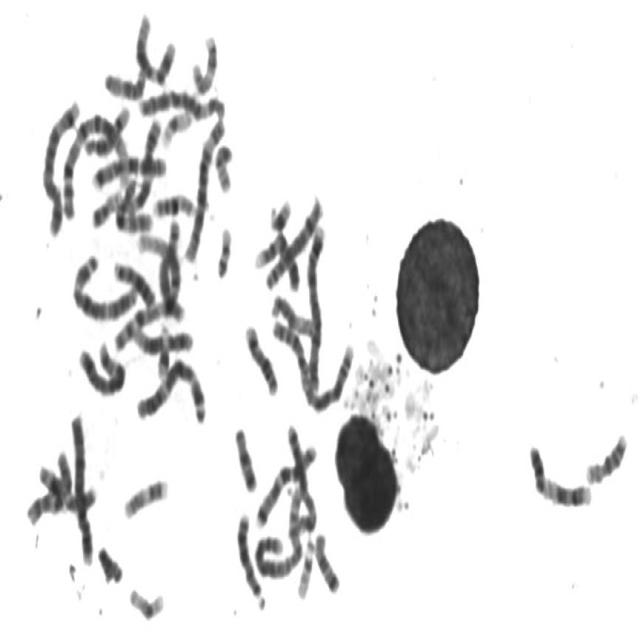A1: (58, 98, 134, 220), (134, 223, 186, 325)
A2: (269, 310, 356, 414), (251, 477, 307, 582)
A3: (132, 352, 209, 426), (69, 246, 139, 324)
B4: (66, 406, 95, 568), (303, 215, 328, 395)
B5: (38, 91, 83, 237), (74, 333, 127, 399)
C10: (23, 441, 73, 528), (112, 173, 154, 244)
C11: (118, 108, 165, 218), (35, 458, 99, 515)
C12: (132, 2, 178, 88), (127, 319, 196, 355)
C6: (182, 107, 228, 264), (135, 80, 228, 124)
C7: (253, 436, 319, 532), (88, 147, 170, 192)
C8: (261, 188, 326, 292), (284, 415, 319, 537)
C9: (525, 436, 595, 510), (253, 225, 302, 293)
D13: (233, 504, 268, 613), (110, 252, 158, 313)
D14: (241, 316, 280, 398), (82, 98, 132, 160)
D15: (268, 288, 319, 340), (101, 60, 148, 101)
E16: (582, 424, 630, 486), (150, 185, 198, 221)
E17: (120, 469, 171, 522), (188, 26, 220, 97)
E18: (311, 525, 342, 596), (231, 418, 259, 495)
F19: (125, 578, 167, 624), (158, 99, 194, 149)
F20: (88, 181, 125, 230), (211, 136, 235, 193)
G21: (266, 190, 293, 232), (154, 322, 172, 381)
G22: (294, 530, 316, 602), (212, 216, 235, 281)
Y: (94, 537, 125, 585)
